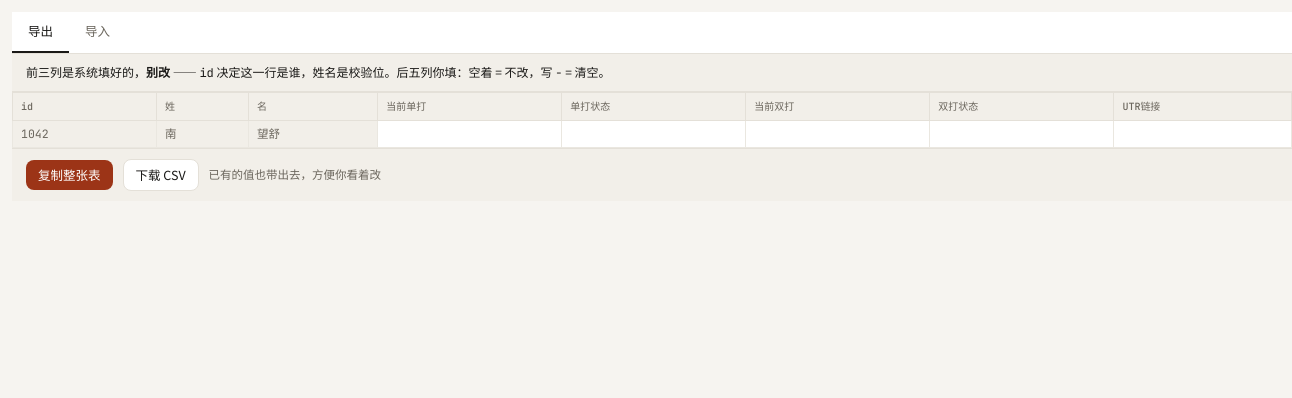
Test: moving between the two halves of the trip › switches to the import form
Click the button "导入".
click(98, 32)  # box [69,12,126,53]
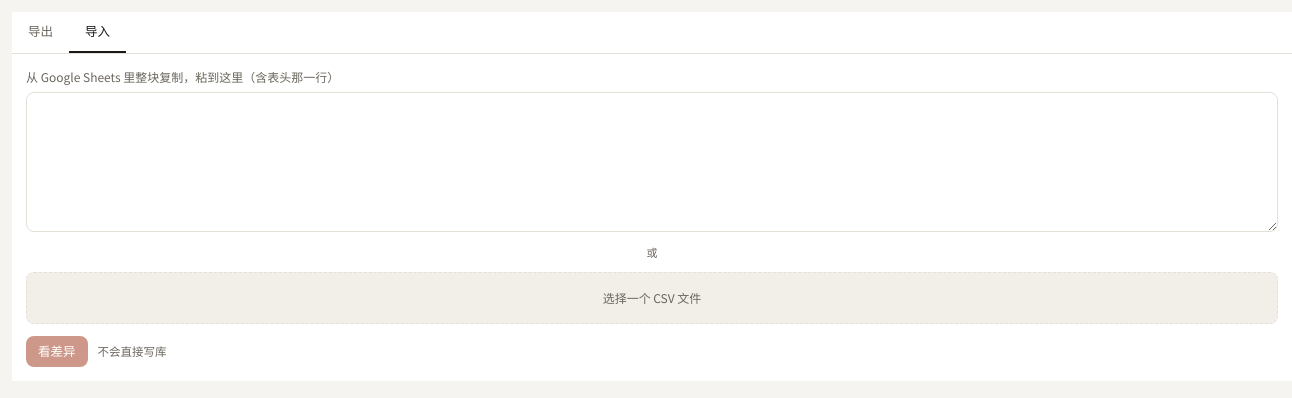
Now the text box is shown, box [26,92,1278,232]
